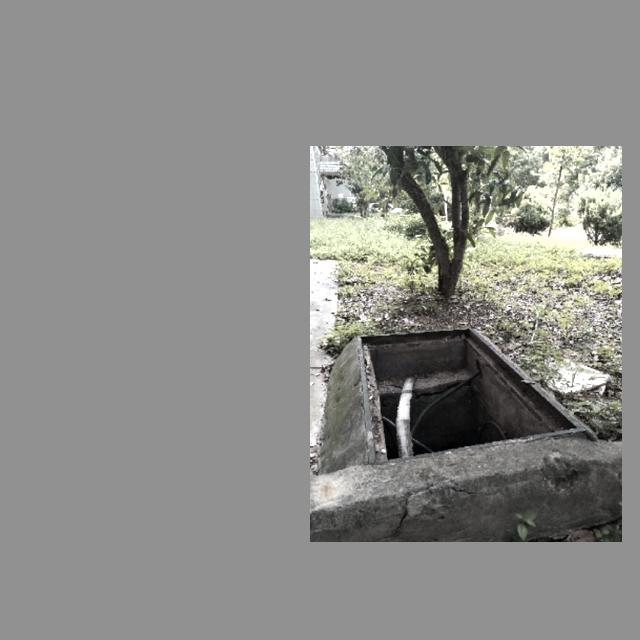lose: (356, 326, 597, 465)
